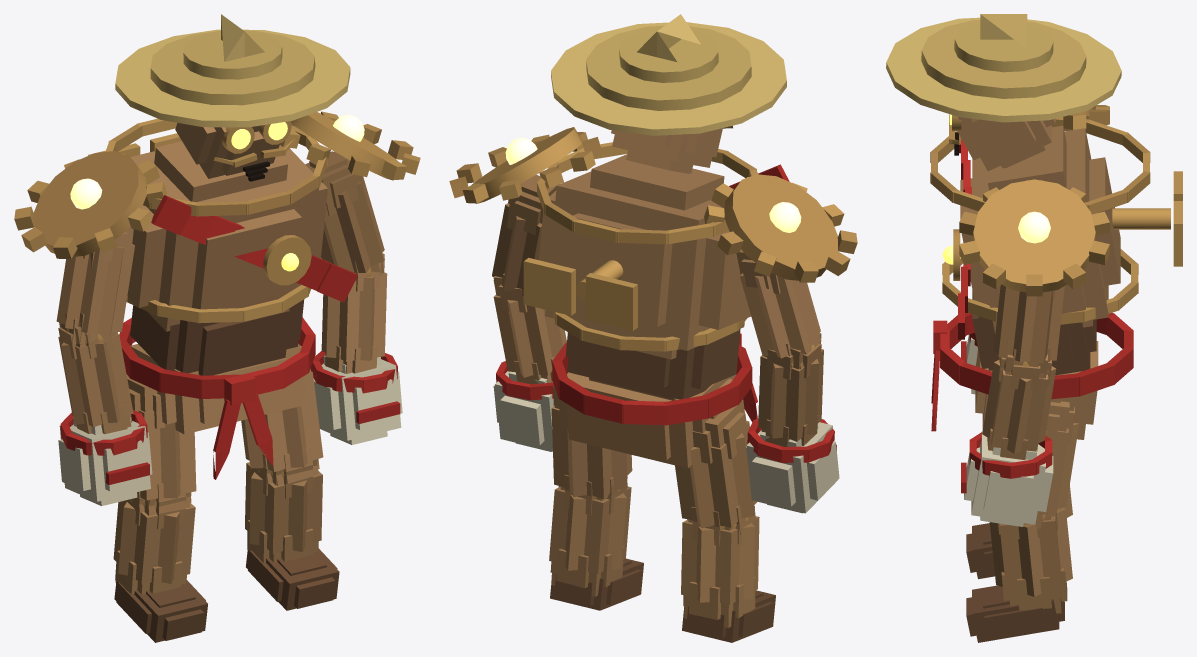
3 views of the same model, side by side, from view 1: azimuth 30°, elevation 25°; view 2: azimuth 150°, elevation 25°; view 3: azimuth 270°, elevation 25° (orthographic).
Visible parts, largest first — view 1: InstructorAutomaton; view 2: InstructorAutomaton; view 3: InstructorAutomaton.
Boxes of the visible parts, x1,y1,x2,y2 form: InstructorAutomaton: (14, 14, 420, 642); InstructorAutomaton: (449, 14, 857, 642); InstructorAutomaton: (886, 14, 1182, 642).
Bounding box in the file's own units: 1.05 × 1.54 × 0.7057.
